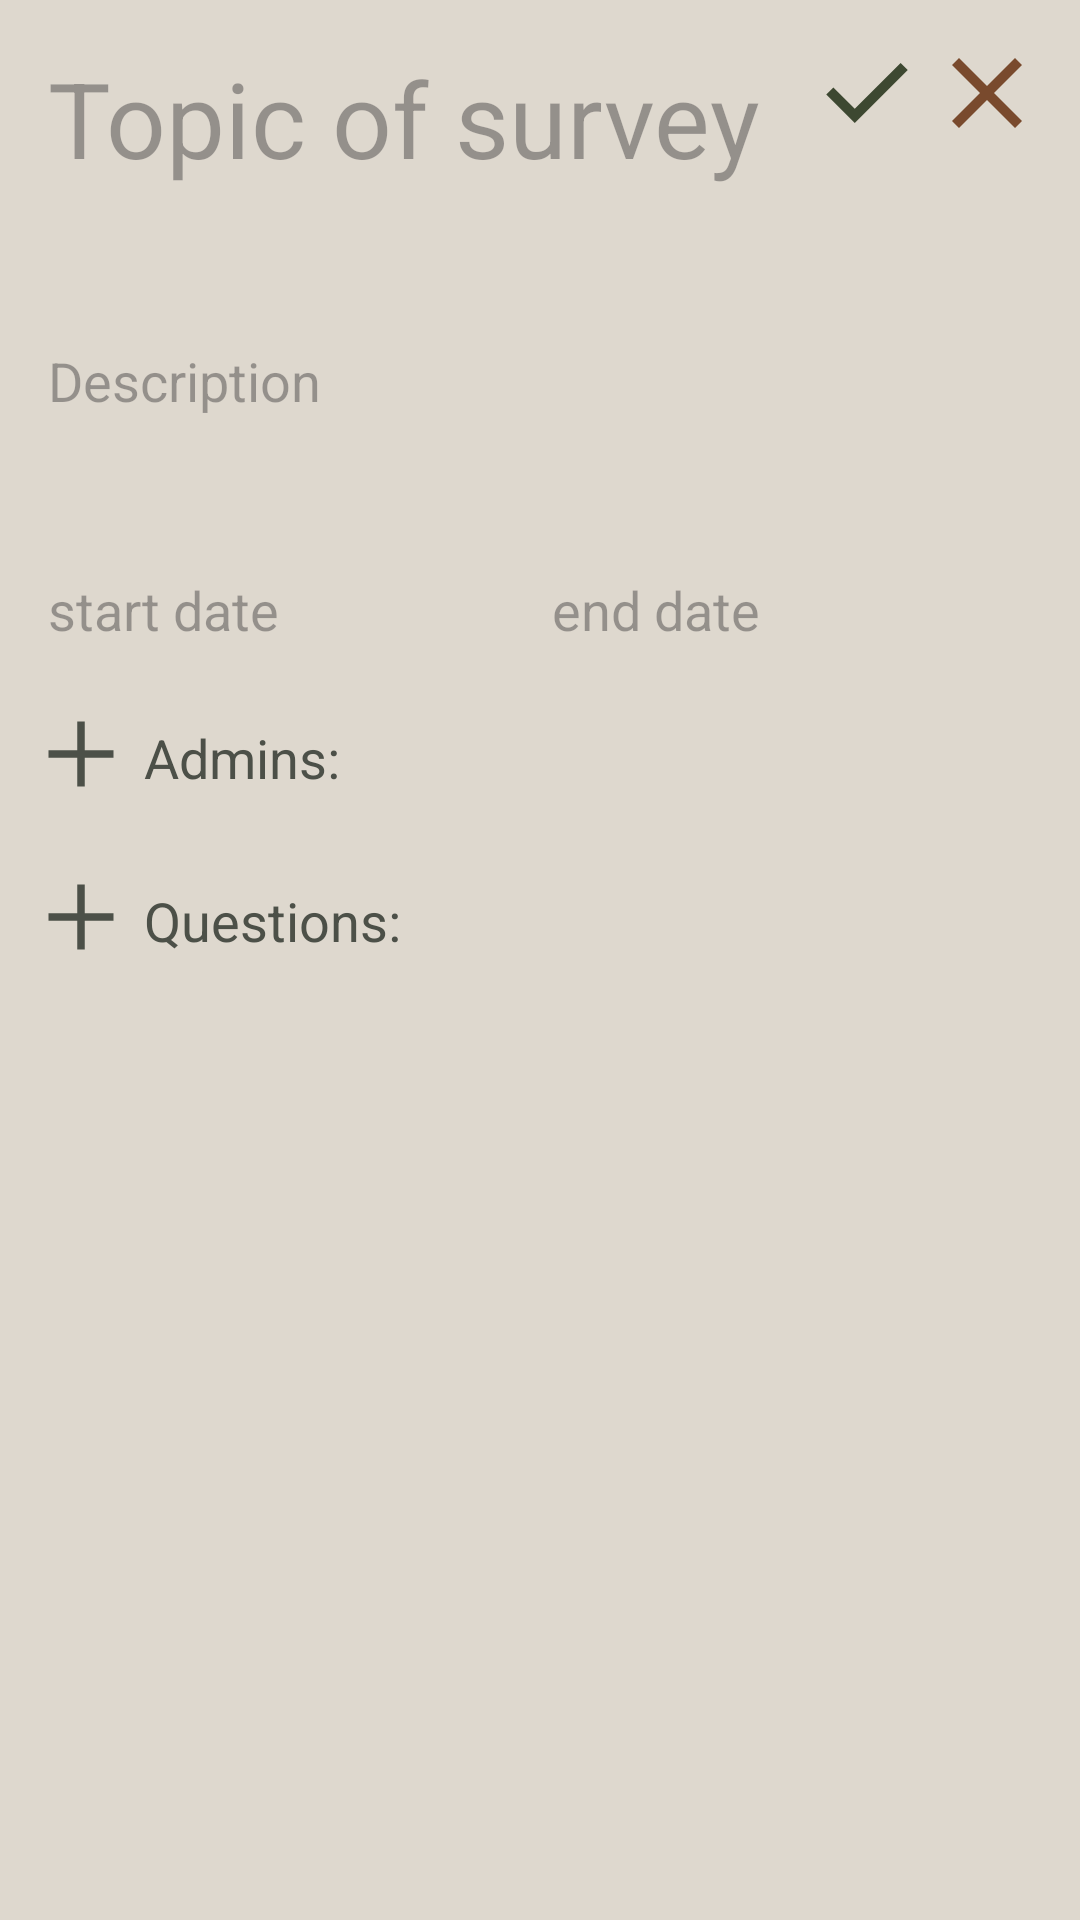

Icons on this 1080*1920 Android screen, each with the point to tap as point (x, y):
add: point (81, 754), point (81, 917)
close: point (987, 93)
save: point (867, 93)
